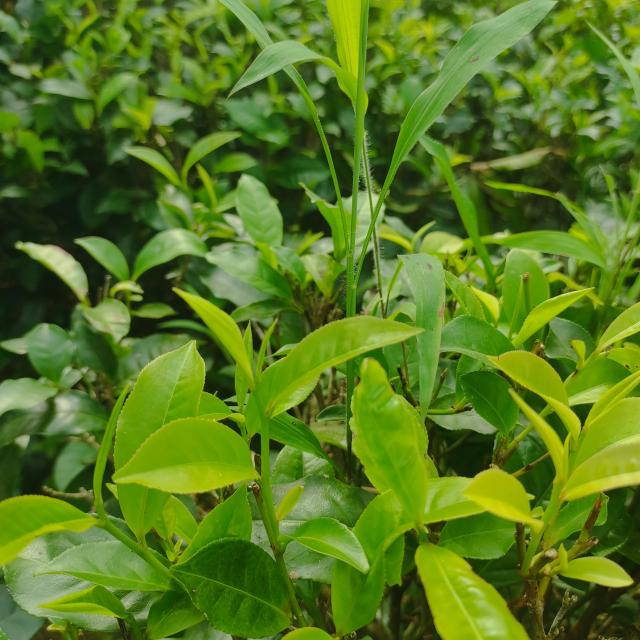unopened_leaf: (80, 377, 140, 515), (252, 312, 285, 382), (551, 431, 581, 490)
